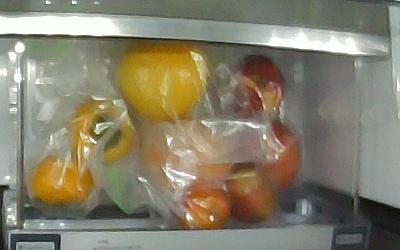apple_vinyl: (212, 55, 287, 118), (233, 123, 301, 191)
grapefruit_vinyl: (117, 39, 208, 121), (142, 121, 232, 190)
persimmon_vinyl: (64, 93, 136, 165), (24, 152, 93, 206)
prune_vinyl: (228, 170, 279, 223), (178, 184, 231, 229)
